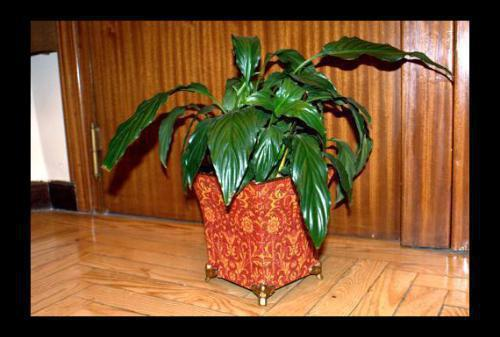Matera: (89, 29, 461, 298)
